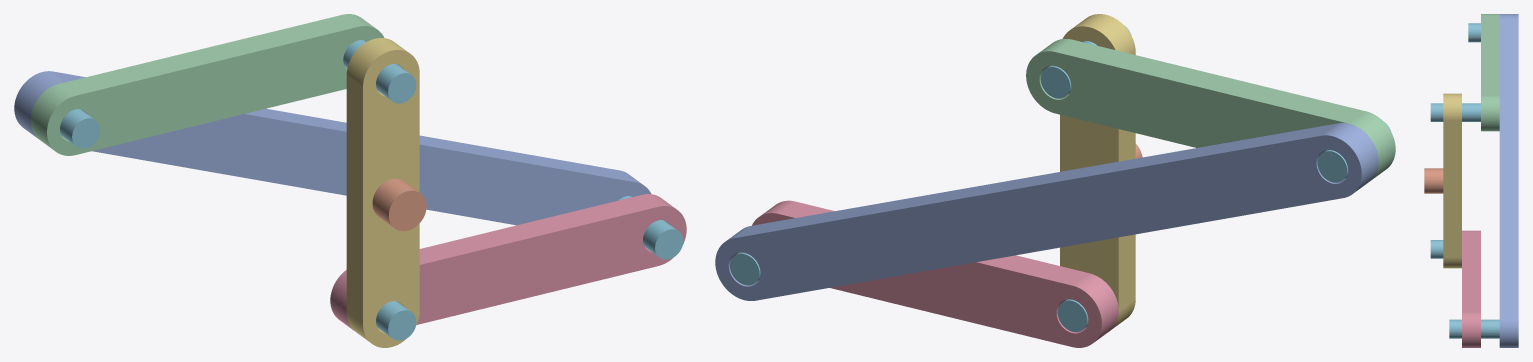
The model's file is watt_linkage_demo.glb.
3 renders of one model, left to right at view 1: azimuth 30°, elevation 25°; view 2: azimuth 150°, elevation 25°; view 3: azimuth 270°, elevation 25°, orthographic. The views are drawn at different scales.
Parts seen in each view (by area): view 1: ground_link, lever_a, lever_b, coupler, tracer_point, pin_2, pin_1, pin_3, pin_0; view 2: ground_link, lever_a, lever_b, coupler, pin_2, pin_0, pin_1, pin_3; view 3: ground_link, coupler, lever_a, lever_b, pin_1, pin_2, tracer_point, pin_3, pin_0.
Part boxes in pixels (x1=…): ground_link: x1=14, y1=71, x2=651, y2=225; lever_a: x1=30, y1=14, x2=384, y2=155; lever_b: x1=330, y1=194, x2=686, y2=330; coupler: x1=346, y1=38, x2=419, y2=347; tracer_point: x1=372, y1=178, x2=426, y2=231; pin_2: x1=343, y1=40, x2=416, y2=103; pin_1: x1=618, y1=196, x2=683, y2=259; pin_3: x1=376, y1=301, x2=416, y2=340; pin_0: x1=60, y1=109, x2=100, y2=148; ground_link: x1=715, y1=123, x2=1378, y2=300; lever_a: x1=1026, y1=39, x2=1395, y2=180; lever_b: x1=752, y1=200, x2=1118, y2=347; coupler: x1=1060, y1=14, x2=1135, y2=329; pin_2: x1=1040, y1=25, x2=1131, y2=98; pin_0: x1=1317, y1=122, x2=1390, y2=182; pin_1: x1=730, y1=252, x2=760, y2=285; pin_3: x1=1057, y1=299, x2=1088, y2=332; ground_link: x1=1499, y1=14, x2=1518, y2=347; coupler: x1=1443, y1=93, x2=1461, y2=268; lever_a: x1=1481, y1=14, x2=1499, y2=131; lever_b: x1=1462, y1=230, x2=1480, y2=347; pin_1: x1=1449, y1=319, x2=1499, y2=338; pin_2: x1=1430, y1=103, x2=1480, y2=121; tracer_point: x1=1424, y1=168, x2=1443, y2=193; pin_3: x1=1430, y1=240, x2=1443, y2=258; pin_0: x1=1468, y1=23, x2=1480, y2=42.
Size of the model in its own units: 66 by 30 by 15.
